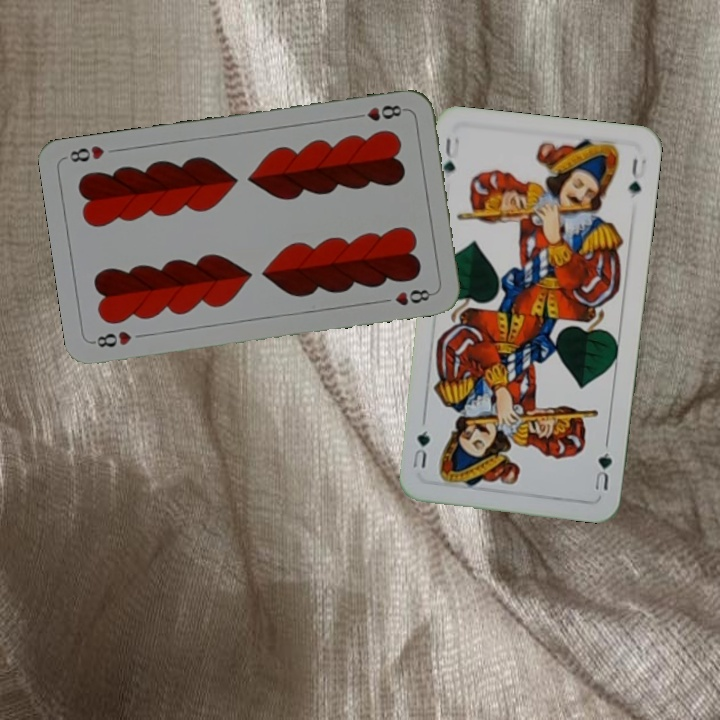GU: (590, 448, 615, 493), (439, 133, 462, 176)
H8: (350, 101, 409, 124), (89, 327, 134, 350)
